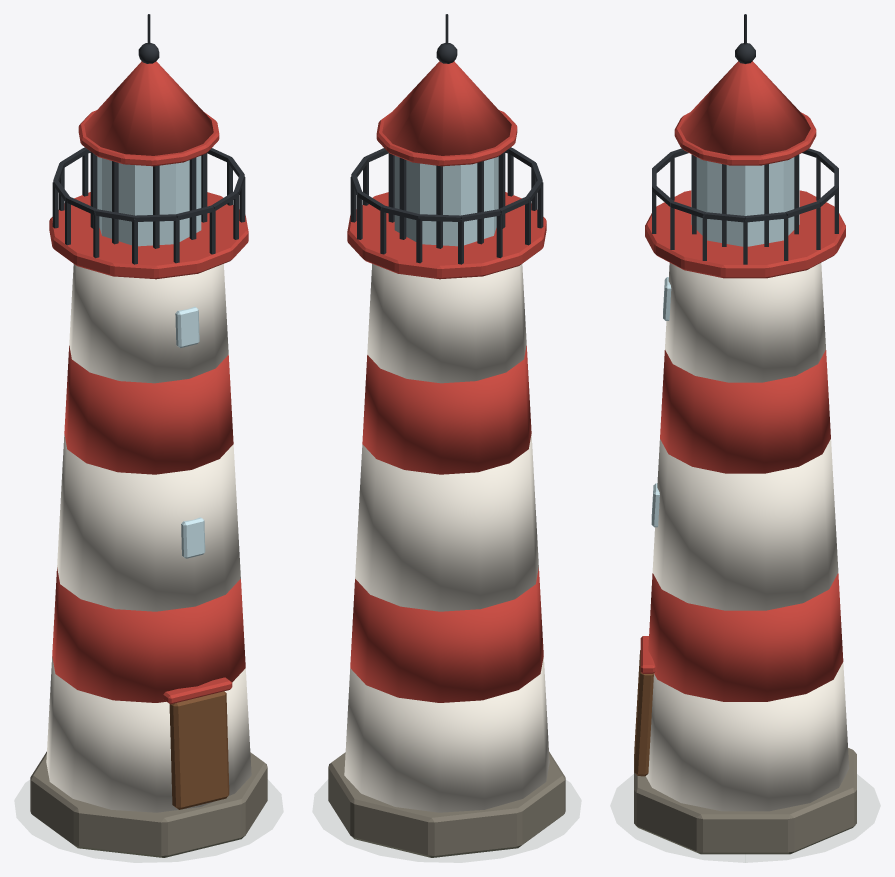
Rendered from lighthouse.glb.
3 renders of one model, left to right at view 1: azimuth 30°, elevation 25°; view 2: azimuth 150°, elevation 25°; view 3: azimuth 270°, elevation 25°, orthographic.
Parts seen in each view (by area): view 1: lighthouse; view 2: lighthouse; view 3: lighthouse.
Part boxes in pixels (x1,y1,x2,y2): lighthouse: (30,14,267,857); lighthouse: (328,14,565,857); lighthouse: (634,14,856,862).
Bounding box in the file's own units: 2.2 × 7.12 × 2.2.
